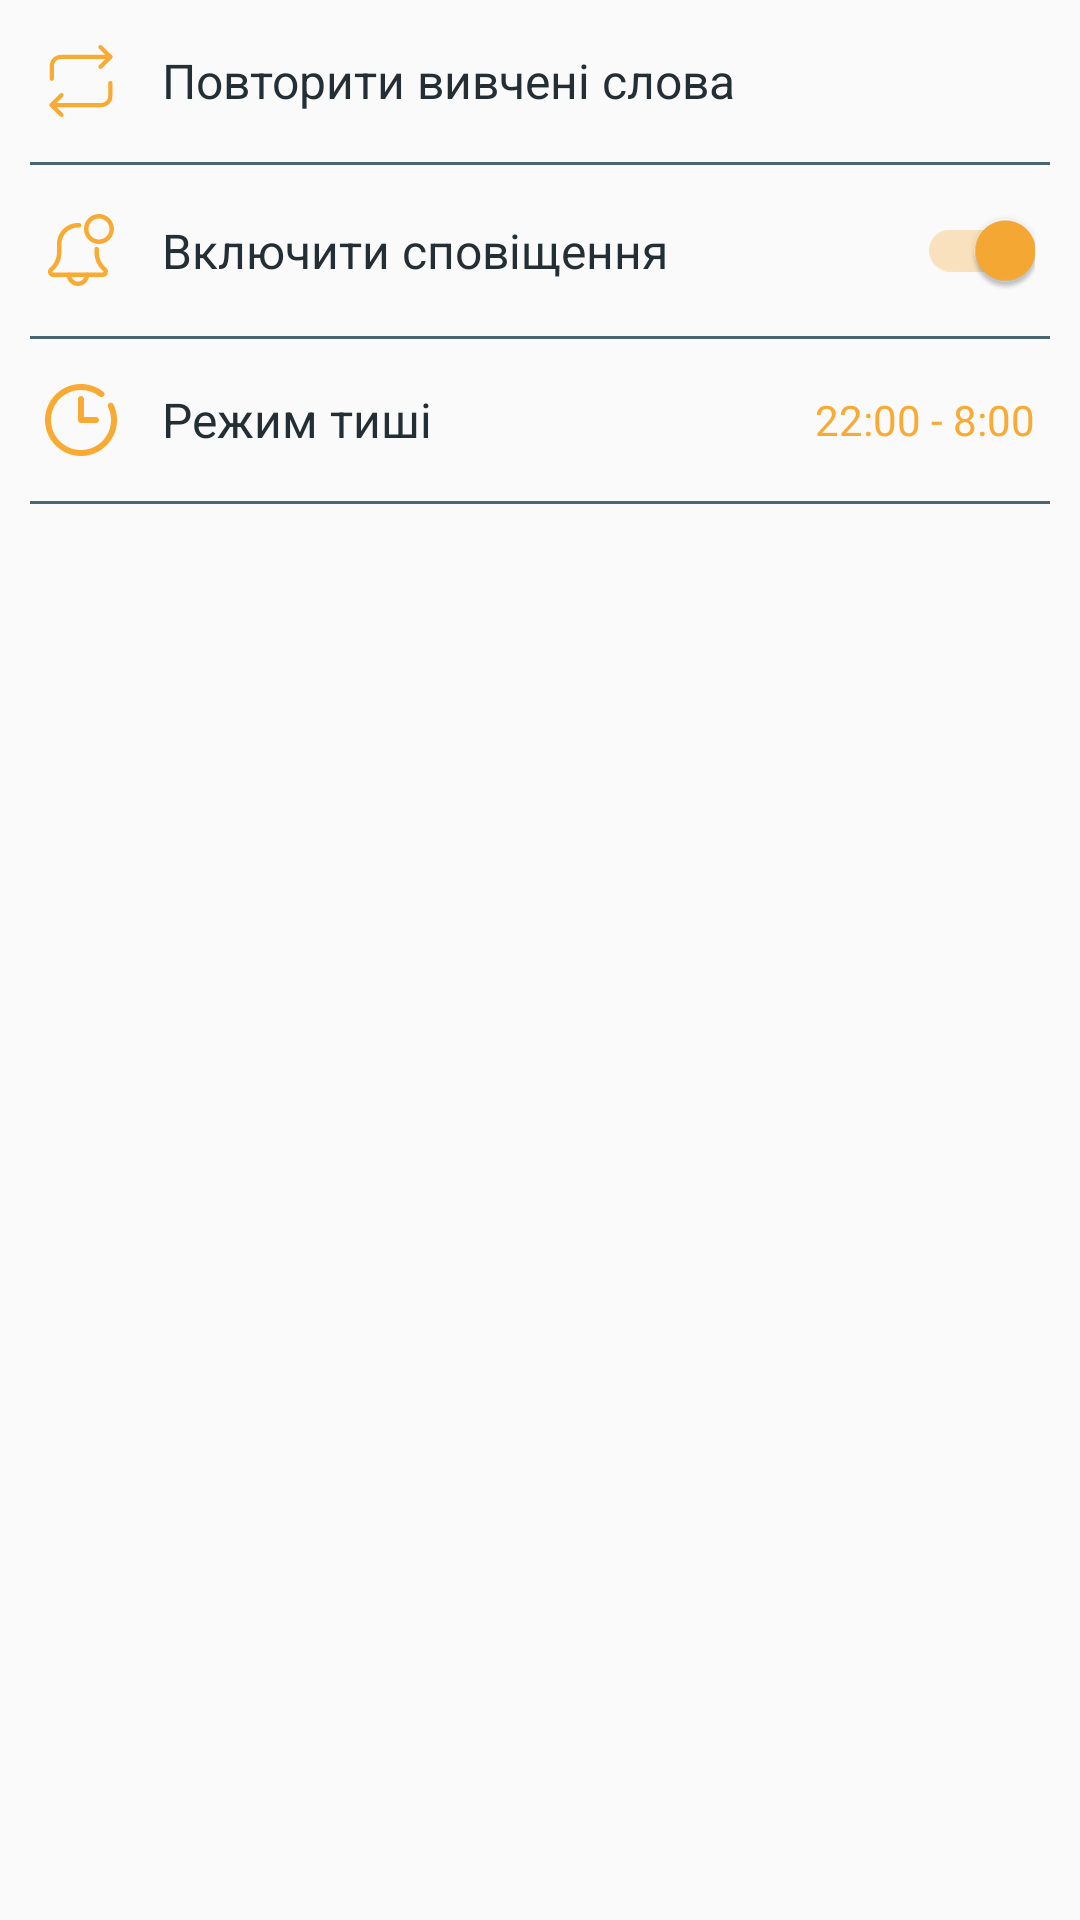

Point at icon controls on the screen. Image size 1080x1920, points as [x,y].
clock: [81,420]
notification: [81,250]
repeat: [81,81]
